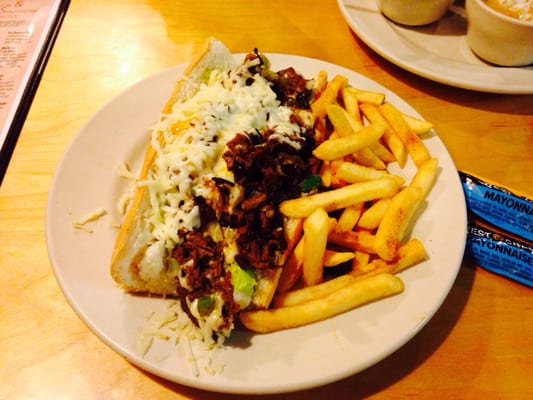sushi: (464, 0, 533, 68)
